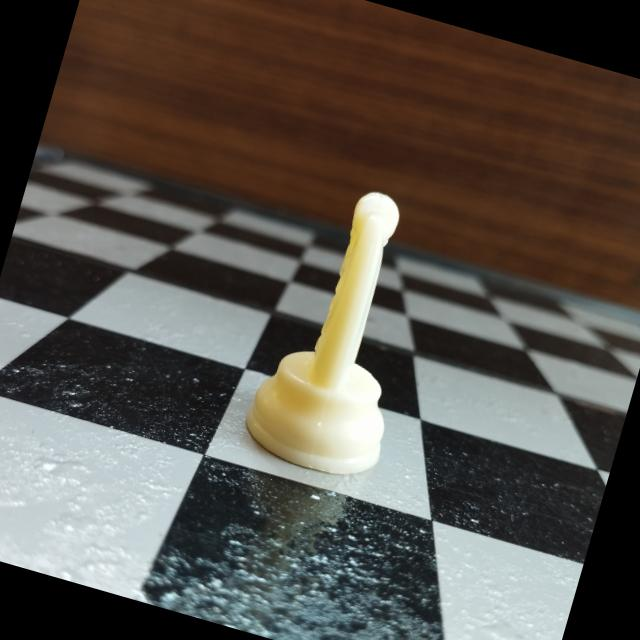White Knight: (227, 165, 463, 498)
